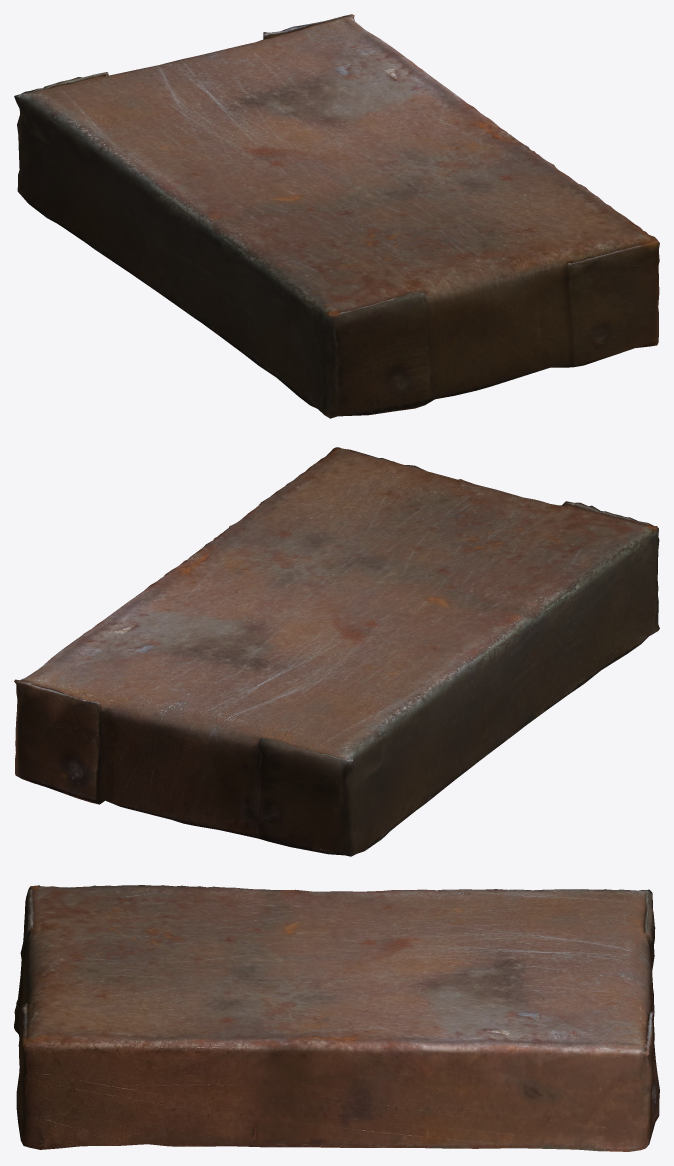
Rendered from rusty_steel_box.glb.
3 renders of one model, top to bottom at view 1: azimuth 30°, elevation 25°; view 2: azimuth 150°, elevation 25°; view 3: azimuth 270°, elevation 25°, orthographic.
Parts seen in each view (by area): view 1: iron thing 188.001_0; view 2: iron thing 188.001_0; view 3: iron thing 188.001_0.
Part boxes in pixels (bbox=[...]): iron thing 188.001_0: bbox=[14, 14, 659, 418]; iron thing 188.001_0: bbox=[14, 447, 659, 856]; iron thing 188.001_0: bbox=[14, 885, 659, 1151].
Size of the model in its own units: 2.69 by 0.8366 by 4.4.
Materials: 1 (1 with a texture image).
